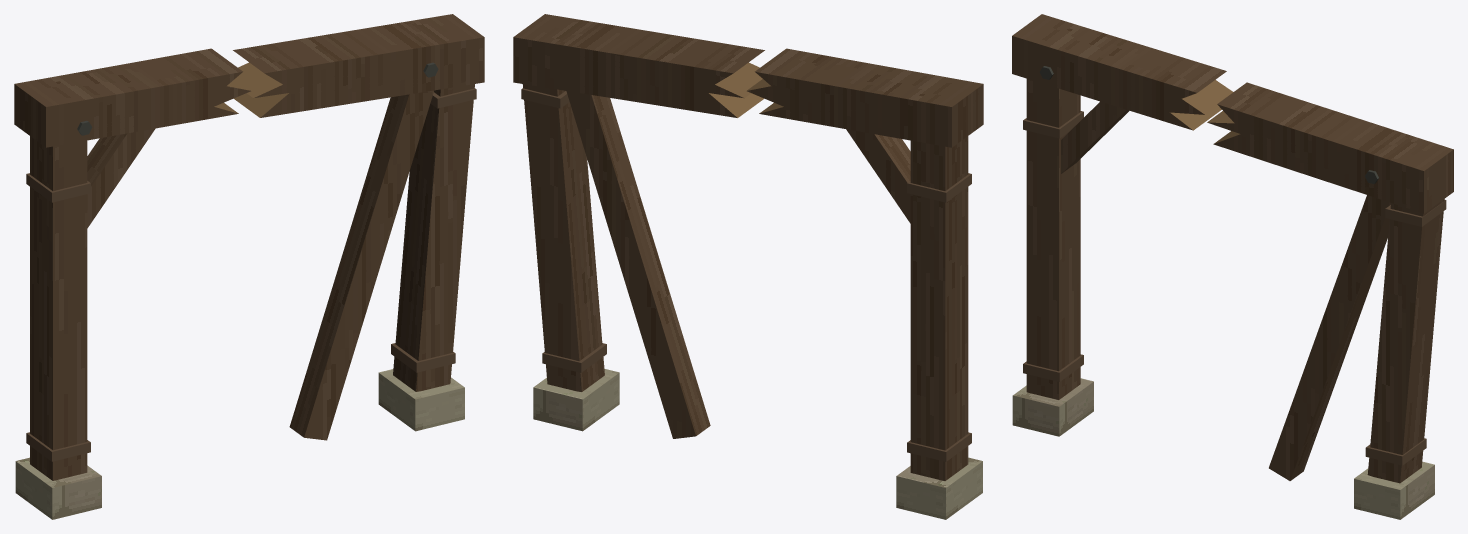
Rendered from buckled_shoring.glb.
3 views of the same model, side by side, from view 1: azimuth 30°, elevation 25°; view 2: azimuth 150°, elevation 25°; view 3: azimuth 330°, elevation 25° (orthographic). The views are drawn at different scales.
Parts seen in each view (by area): view 1: Buckled shoring; view 2: Buckled shoring; view 3: Buckled shoring.
Part boxes in pixels (x1,y1,x2,y2): Buckled shoring: [14, 14, 484, 519]; Buckled shoring: [513, 14, 983, 519]; Buckled shoring: [1012, 14, 1453, 519].
Size of the model in its own units: 2.09 by 1.88 by 0.305.
Materials: 5 (2 with a texture image).
